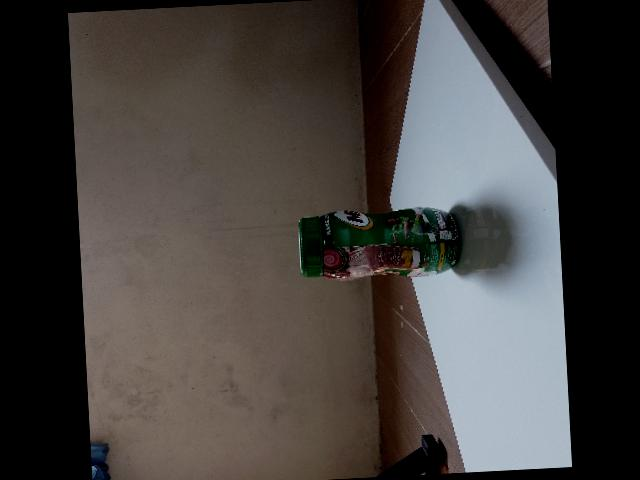milo: (299, 206, 462, 280)
